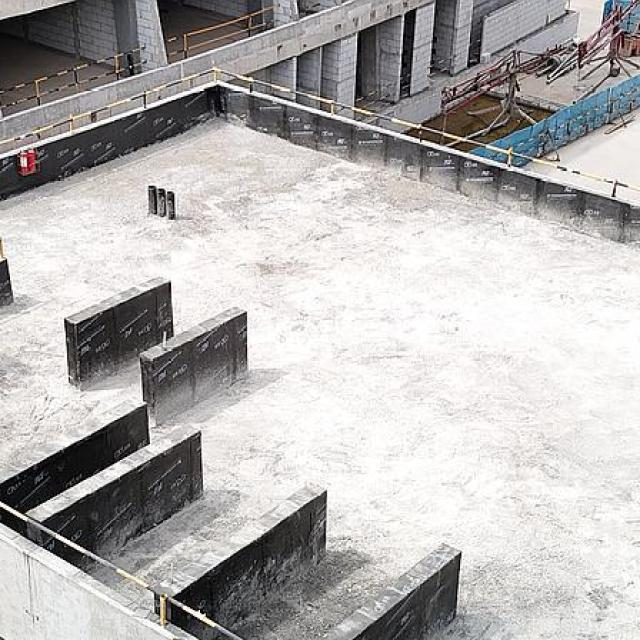edge_guardrail: (0, 65, 640, 198), (0, 45, 149, 109), (165, 5, 276, 59), (354, 86, 393, 110), (428, 56, 453, 78), (399, 74, 411, 99)
